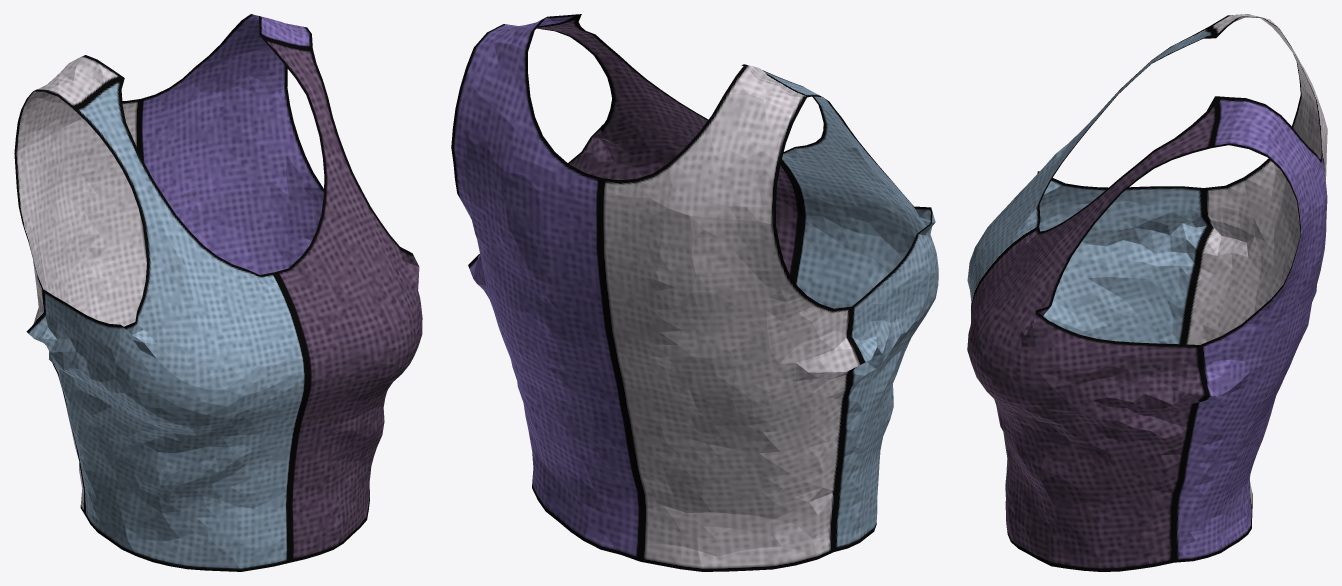
File: tank_knit4_s40_sim.obj
3 views of the same model, side by side, from view 1: azimuth 30°, elevation 25°; view 2: azimuth 150°, elevation 25°; view 3: azimuth 270°, elevation 25° (orthographic). The views are drawn at different scales.
Bounding box in the file's own units: 22.84 × 28.94 × 20.38.
Materials: 1 (1 with a texture image).
